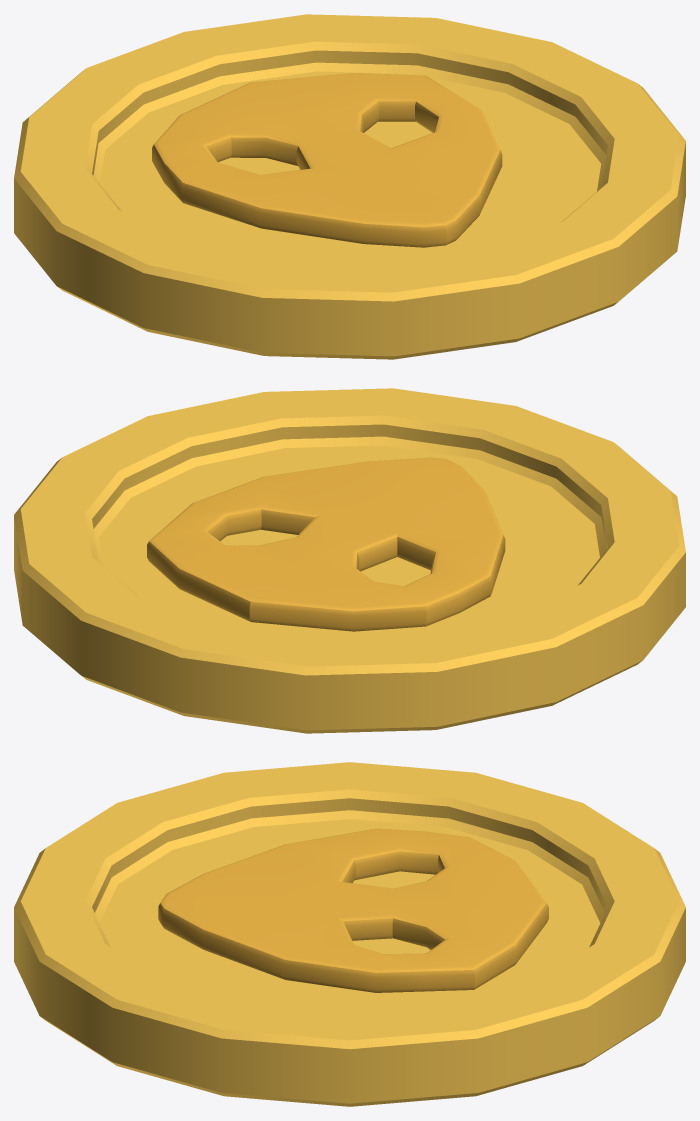
Rendered from coin_geo.fbx.
3 views of the same model, one above another, from view 1: azimuth 30°, elevation 25°; view 2: azimuth 150°, elevation 25°; view 3: azimuth 270°, elevation 25° (orthographic).
Visible parts, largest first — view 1: coin_geo; view 2: coin_geo; view 3: coin_geo.
Part boxes in pixels (x1,y1,x2,y2): coin_geo: (14, 14, 685, 359); coin_geo: (14, 388, 685, 733); coin_geo: (14, 762, 685, 1106).
Bounding box in the file's own units: 2 × 0.2186 × 2.
